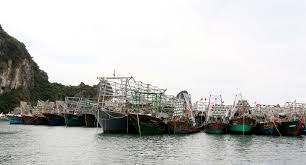tau_dansu: (98, 78, 135, 137), (128, 99, 173, 137), (172, 100, 204, 137), (232, 102, 258, 137), (205, 99, 229, 134), (255, 108, 284, 136), (282, 111, 304, 139), (62, 101, 86, 125), (45, 102, 63, 129)
